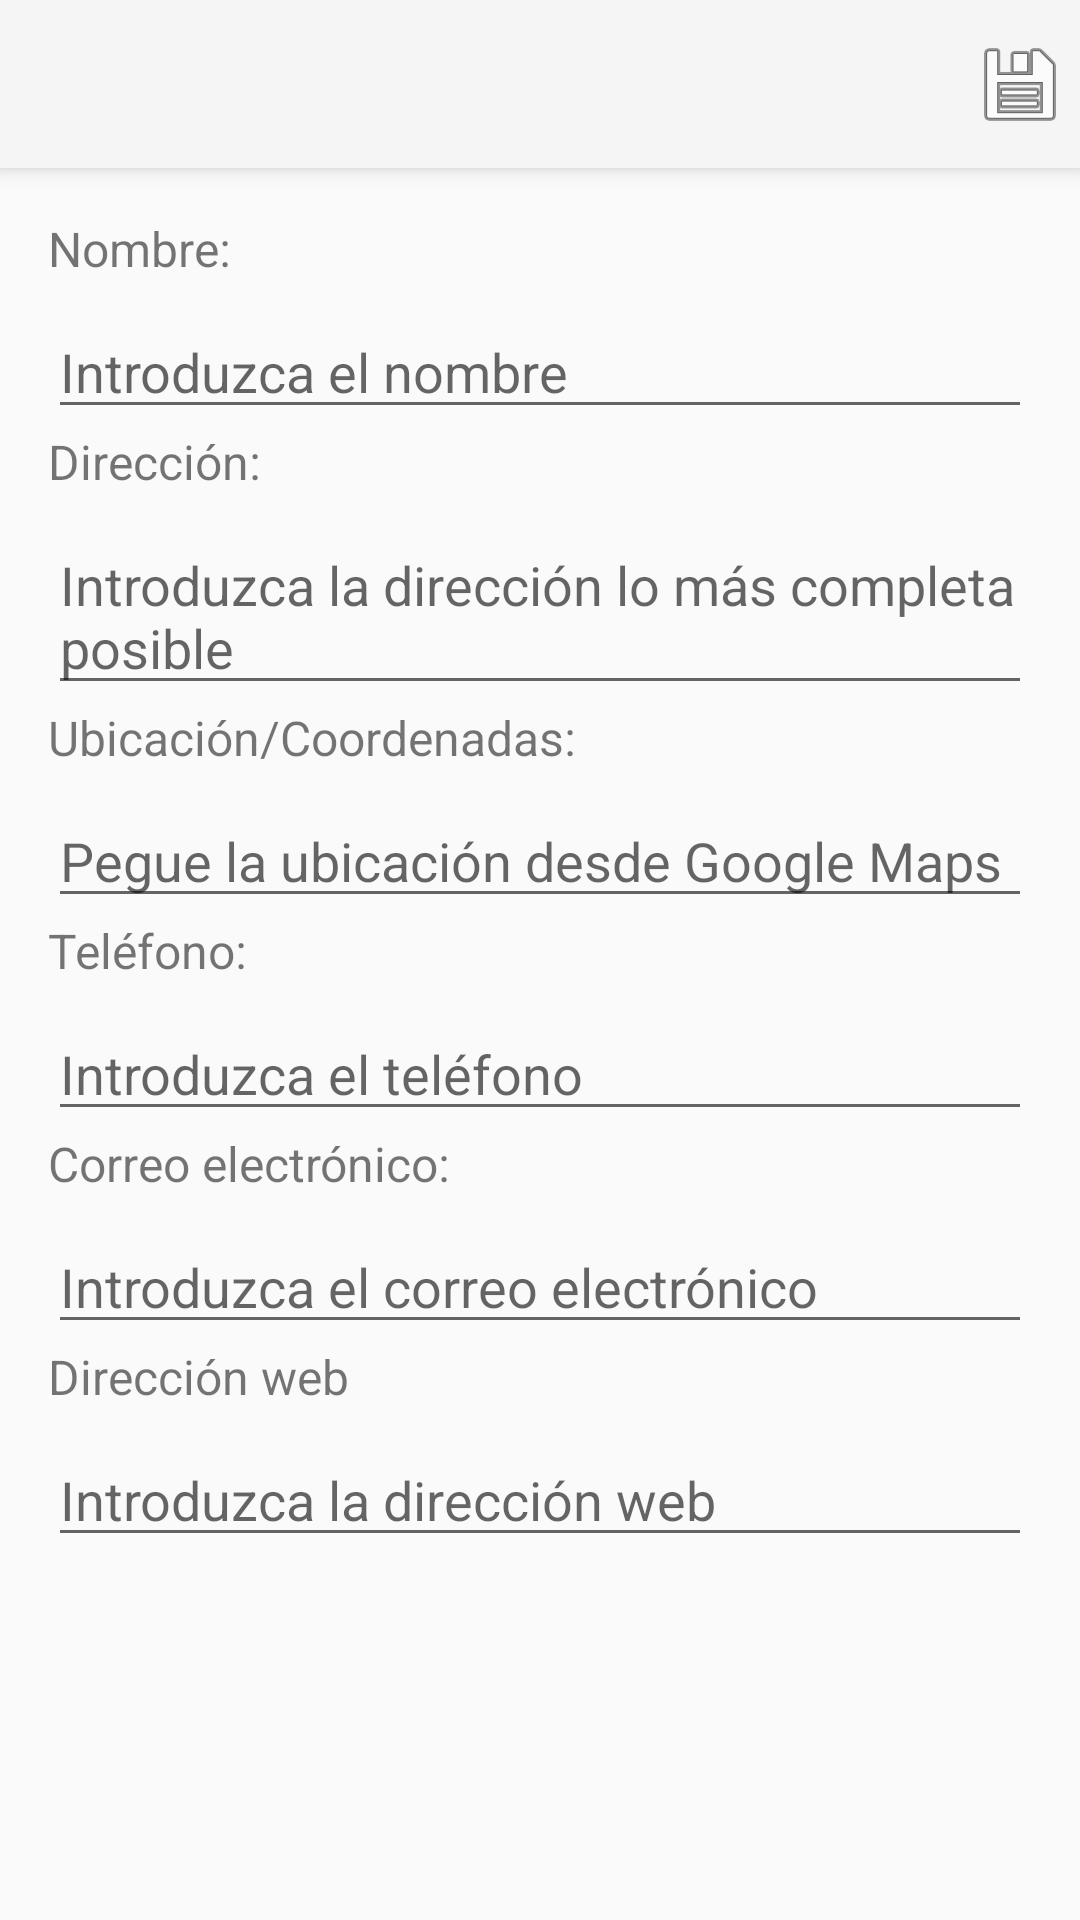

Screen size 1080x1920. Icon name, then its center in pixels as (x=x, y=y):
Guardar: (x=1020, y=84)
